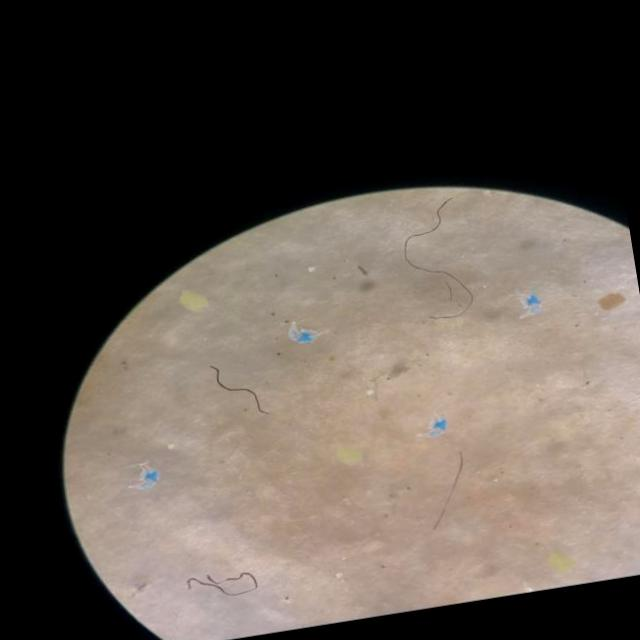fiber: (403, 198, 473, 318), (211, 366, 265, 413), (432, 452, 463, 528), (186, 570, 257, 597)
film: (130, 464, 158, 490), (289, 324, 314, 343), (520, 294, 540, 315), (426, 418, 445, 433)
fragment: (178, 291, 207, 311), (336, 445, 361, 465), (547, 553, 573, 572), (599, 292, 624, 310)
pellet: (367, 389, 373, 395), (308, 266, 314, 271), (169, 444, 173, 448)
